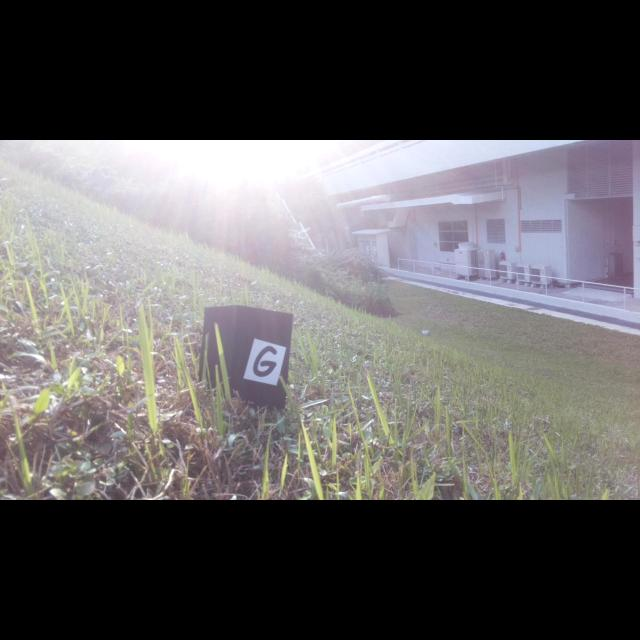G: (253, 346, 277, 377)
